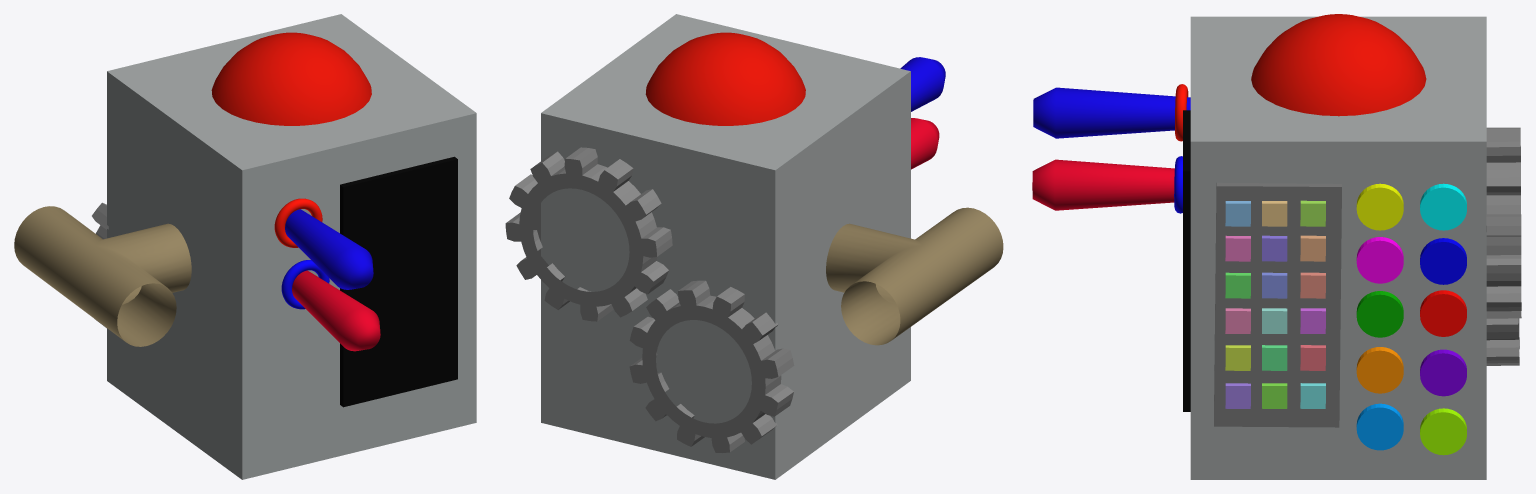
The model's file is thingamabob.glb.
The picture shows the model from 3 angles, left to right: view 1: azimuth 30°, elevation 25°; view 2: azimuth 150°, elevation 25°; view 3: azimuth 270°, elevation 25°; orthographic projection. The views are drawn at different scales.
Parts seen in each view (by area): view 1: Cube, Cube.001, Tee Joint, Sphere, Cylinder.010, Cylinder.011, Torus, Torus.001; view 2: Cube, Tee Joint, Gear, Gear.001, Sphere, Cylinder.010, Cylinder.011; view 3: Cube, Cube.002, Sphere, Gear, Cylinder.010, Cylinder.011, Cube.001, Cylinder.007, Cylinder.001, Cylinder.004, Cylinder.005, Cylinder.006 (+25 smaller).
Part boxes in pixels (x1=…): Cube: x1=107, y1=14, x2=476, y2=479; Cube.001: x1=340, y1=156, x2=457, y2=407; Tee Joint: x1=14, y1=206, x2=191, y2=346; Sphere: x1=211, y1=32, x2=371, y2=125; Cylinder.010: x1=285, y1=209, x2=373, y2=289; Cylinder.011: x1=292, y1=270, x2=380, y2=351; Torus: x1=274, y1=198, x2=322, y2=247; Torus.001: x1=281, y1=260, x2=329, y2=309; Cube: x1=541, y1=14, x2=910, y2=479; Tee Joint: x1=826, y1=207, x2=1003, y2=345; Gear: x1=505, y1=147, x2=672, y2=321; Gear.001: x1=629, y1=280, x2=794, y2=452; Sphere: x1=645, y1=32, x2=805, y2=125; Cylinder.010: x1=900, y1=57, x2=945, y2=111; Cylinder.011: x1=911, y1=118, x2=939, y2=169; Cube: x1=1190, y1=16, x2=1486, y2=479; Cube.002: x1=1214, y1=182, x2=1341, y2=427; Sphere: x1=1251, y1=14, x2=1426, y2=116; Gear: x1=1486, y1=127, x2=1521, y2=318; Cylinder.010: x1=1033, y1=87, x2=1190, y2=138; Cylinder.011: x1=1032, y1=159, x2=1174, y2=210; Cube.001: x1=1183, y1=110, x2=1190, y2=411; Cylinder.007: x1=1356, y1=403, x2=1403, y2=450; Cylinder.001: x1=1356, y1=183, x2=1403, y2=230; Cylinder.004: x1=1356, y1=237, x2=1403, y2=283; Cylinder.005: x1=1356, y1=291, x2=1403, y2=337; Cylinder.006: x1=1356, y1=347, x2=1403, y2=393.
Bounding box in the file's own units: 8.05 × 7.65 × 8.59.
